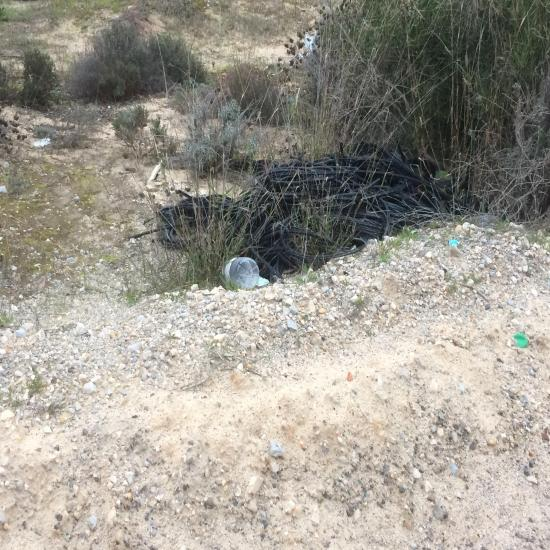Clear plastic bottle: (221, 257, 259, 290)
Plastic bottle cap: (513, 333, 528, 348), (448, 240, 459, 246)
Unlabeled litter: (256, 276, 269, 287)
